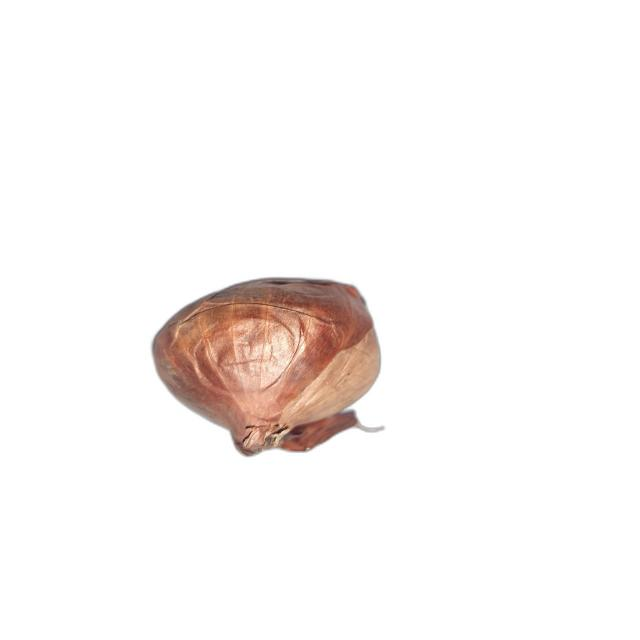onion: (150, 278, 384, 458)
